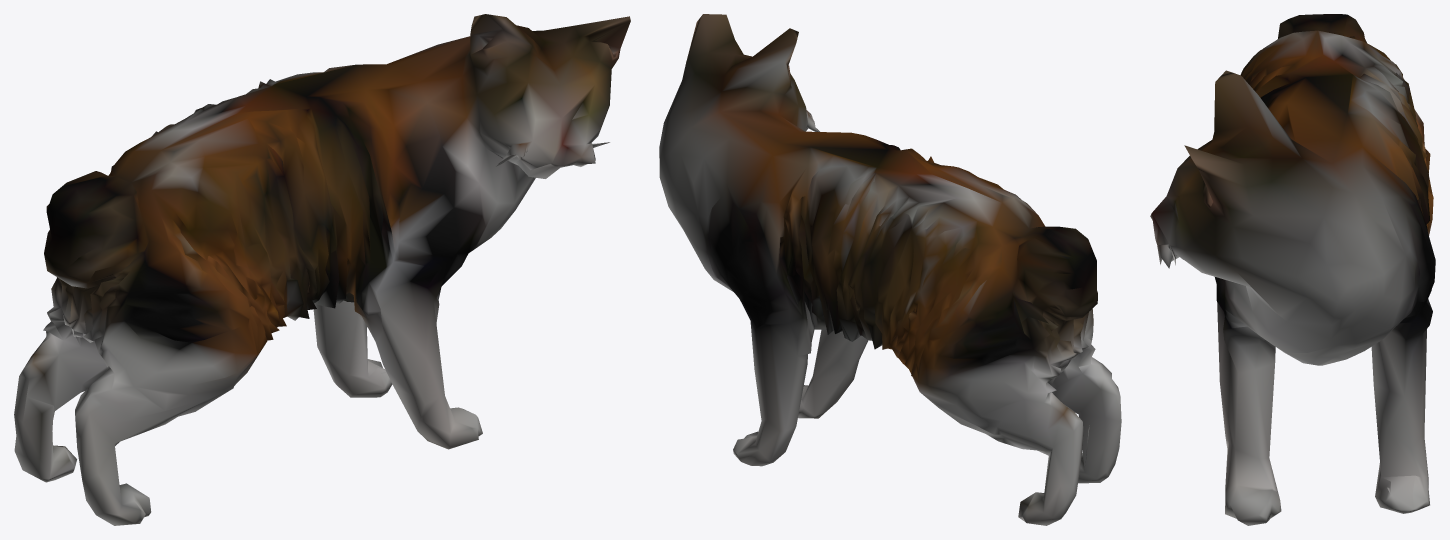
Rendered from gato.glb.
The picture shows the model from 3 angles, left to right: view 1: azimuth 30°, elevation 25°; view 2: azimuth 150°, elevation 25°; view 3: azimuth 270°, elevation 25°; orthographic projection. The views are drawn at different scales.
Parts seen in each view (by area): view 1: fauna/gato.glb; view 2: fauna/gato.glb; view 3: fauna/gato.glb.
Boxes of the visible parts, x1,y1,x2,y2 form: fauna/gato.glb: [14, 14, 630, 525]; fauna/gato.glb: [659, 14, 1121, 525]; fauna/gato.glb: [1150, 14, 1435, 525].
Size of the model in its own units: 0.9969 by 0.7768 by 0.4389.
